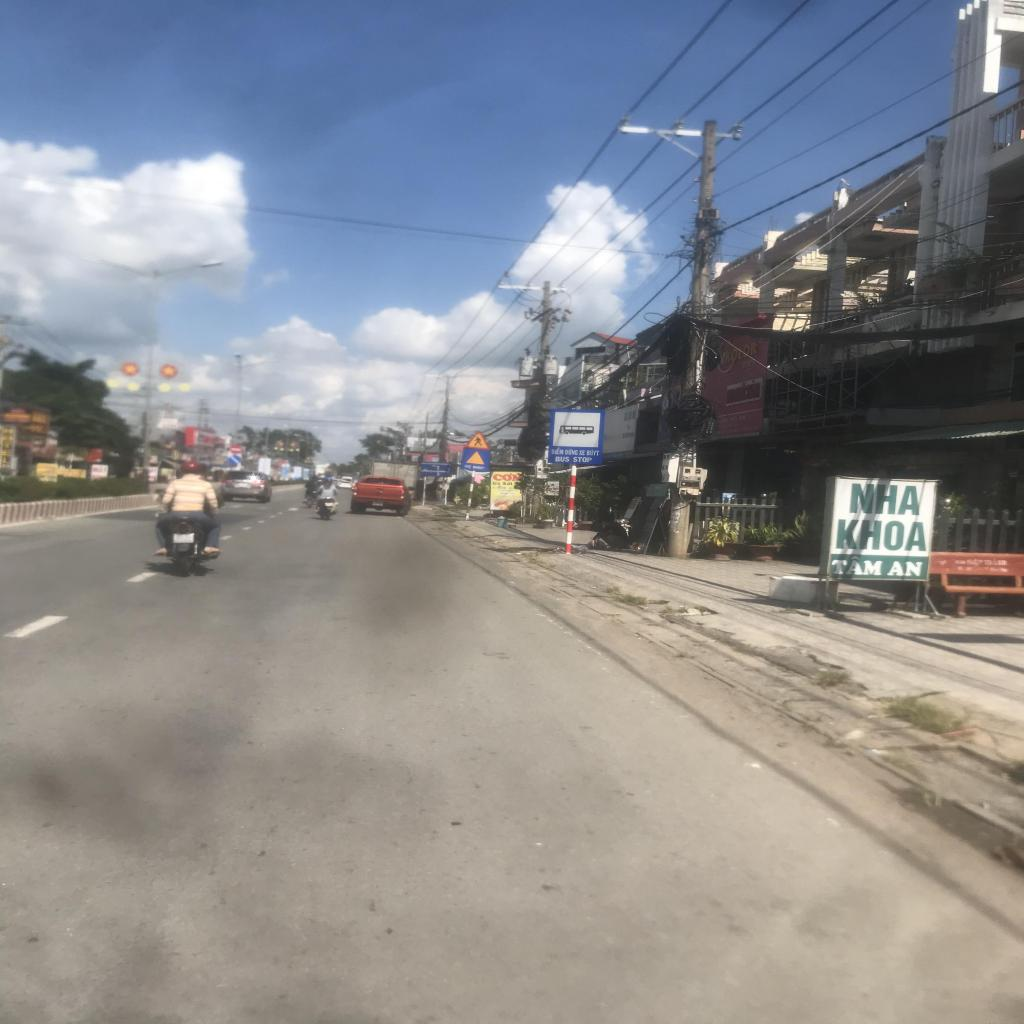cam_xe_di_nguoc_chieu: (229, 444, 242, 454)
cho: (460, 448, 491, 472)
chu_y_nguoi_di_bo_cat_ngang: (464, 430, 490, 450)
huong_phai_di_vuot_chuong_ngai_vat_phai: (229, 455, 241, 465)
khac: (548, 408, 604, 464), (420, 462, 452, 477)
